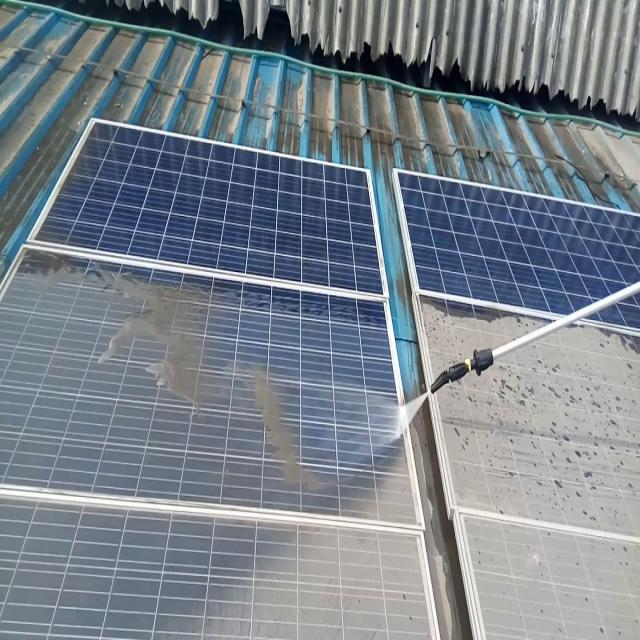faulty: (0, 289, 409, 514), (1, 511, 432, 640), (415, 307, 637, 539), (463, 515, 639, 640)
no faulty: (48, 124, 378, 289), (404, 172, 639, 316)
